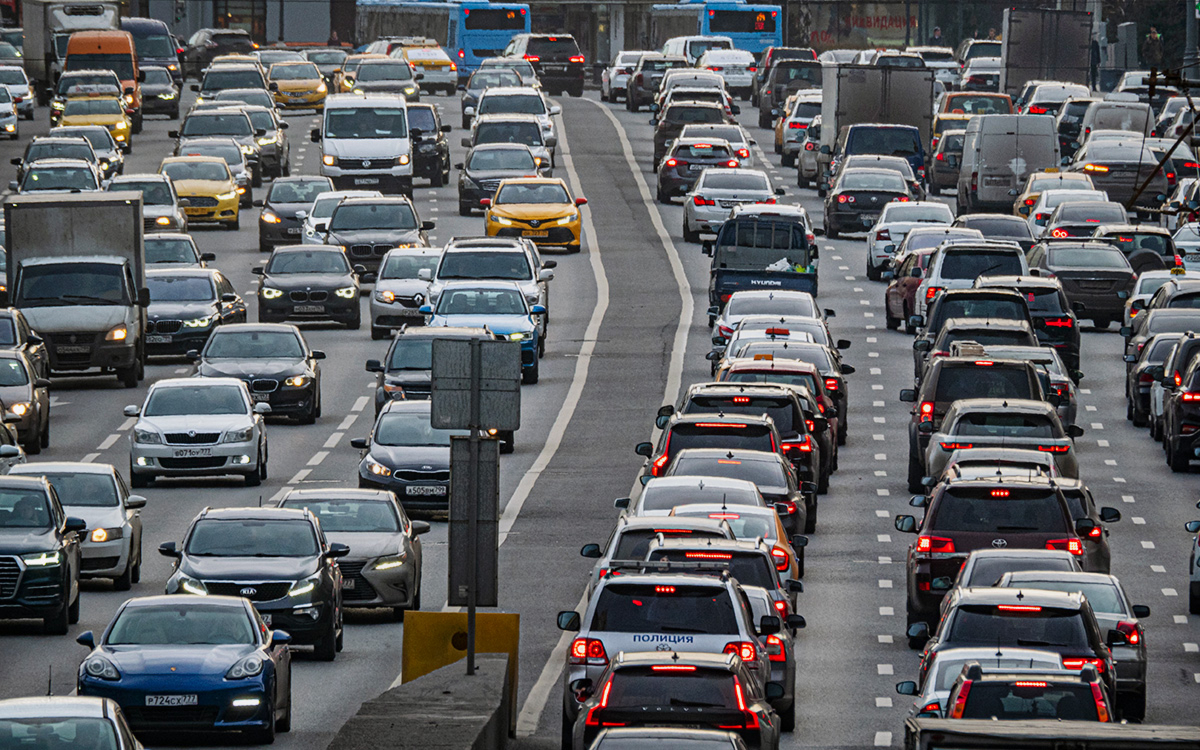Car: (557, 563, 782, 750), (77, 596, 292, 743), (895, 480, 1093, 630), (159, 507, 350, 660), (4, 190, 150, 389), (906, 586, 1129, 710), (994, 569, 1153, 722), (572, 652, 780, 750), (898, 357, 1044, 494), (280, 488, 430, 619), (11, 462, 147, 590), (809, 65, 932, 197), (124, 378, 270, 488), (680, 384, 823, 492), (355, 0, 531, 87), (976, 475, 1121, 574), (918, 397, 1086, 481), (186, 323, 326, 423), (0, 475, 86, 634), (971, 274, 1088, 388), (350, 401, 471, 511), (645, 536, 802, 620), (664, 449, 816, 533), (896, 644, 1065, 718), (738, 341, 855, 447), (581, 517, 733, 598), (423, 283, 544, 383), (310, 92, 422, 200), (948, 114, 1062, 218), (701, 217, 819, 315), (911, 288, 1033, 380), (943, 659, 1114, 722), (315, 194, 436, 283), (20, 0, 120, 107), (366, 327, 493, 410), (910, 238, 1030, 324), (669, 504, 807, 578), (1027, 237, 1138, 328), (744, 382, 834, 494), (707, 289, 825, 374), (932, 550, 1081, 616), (252, 244, 367, 329), (635, 414, 781, 479), (642, 0, 783, 66), (144, 267, 248, 356), (723, 360, 837, 440), (743, 586, 805, 731), (63, 29, 146, 135), (426, 237, 552, 306), (980, 344, 1078, 432), (1066, 139, 1168, 223), (999, 7, 1093, 96), (481, 178, 587, 252), (167, 109, 265, 188), (0, 696, 142, 750), (820, 123, 926, 193), (1119, 307, 1200, 398), (683, 169, 785, 241), (866, 201, 956, 282), (157, 154, 246, 230), (615, 477, 788, 516), (923, 318, 1040, 375), (370, 248, 442, 340), (823, 167, 916, 238), (252, 175, 335, 252), (1124, 331, 1188, 428), (1144, 332, 1200, 442), (461, 114, 557, 177), (455, 143, 538, 215), (173, 136, 257, 207), (217, 105, 293, 181), (495, 33, 584, 97), (649, 100, 730, 170), (53, 85, 134, 154), (101, 171, 190, 233), (0, 349, 51, 455), (1090, 223, 1187, 277), (658, 138, 740, 201), (464, 85, 560, 137), (884, 226, 983, 275), (1160, 351, 1200, 472), (1117, 268, 1200, 326), (828, 154, 927, 202), (46, 69, 133, 123), (1007, 167, 1095, 220), (121, 16, 182, 92), (295, 190, 382, 243), (758, 57, 822, 129), (10, 135, 109, 181), (47, 126, 128, 181), (885, 248, 936, 334), (725, 204, 825, 247), (1076, 92, 1157, 145), (179, 28, 260, 81), (1020, 190, 1109, 238), (737, 316, 851, 353), (751, 47, 819, 107), (457, 68, 523, 129), (390, 38, 457, 97), (407, 102, 452, 187), (1132, 279, 1200, 335), (717, 328, 814, 367), (950, 213, 1037, 256), (626, 54, 690, 112), (940, 446, 1056, 477), (590, 727, 746, 750), (0, 307, 49, 379), (7, 156, 101, 193), (1035, 201, 1131, 237), (346, 58, 424, 102), (599, 49, 662, 103), (679, 124, 758, 167), (694, 49, 758, 101), (264, 61, 328, 111), (1126, 137, 1200, 180), (190, 68, 278, 103), (920, 465, 1048, 489), (779, 94, 821, 167), (774, 89, 821, 154), (1112, 71, 1178, 117), (1054, 97, 1103, 156), (144, 232, 218, 270), (662, 85, 733, 121), (1019, 81, 1090, 117), (928, 128, 965, 197), (655, 73, 731, 106), (905, 46, 962, 90), (214, 87, 286, 119), (662, 35, 734, 67), (298, 49, 350, 93), (138, 66, 181, 119), (479, 57, 546, 91), (332, 53, 390, 92), (715, 354, 792, 382), (1158, 179, 1197, 232), (1014, 81, 1074, 115), (794, 115, 821, 188), (0, 66, 35, 120), (932, 109, 977, 151), (951, 56, 1001, 91), (939, 91, 1014, 114), (654, 68, 713, 97), (1157, 97, 1200, 136), (1146, 144, 1178, 196), (1184, 518, 1200, 618), (1171, 178, 1200, 230), (0, 423, 27, 476), (247, 50, 304, 74), (1164, 106, 1200, 144), (1173, 221, 1200, 271), (954, 38, 1002, 65), (0, 82, 22, 140), (184, 99, 248, 116), (523, 238, 556, 270), (364, 36, 414, 56), (206, 61, 263, 78), (210, 52, 262, 70), (1083, 130, 1145, 145), (1029, 360, 1055, 394), (0, 399, 22, 439), (871, 51, 926, 67), (851, 48, 902, 65), (170, 34, 187, 81), (817, 49, 865, 64), (0, 27, 24, 55), (0, 42, 24, 69), (0, 247, 8, 308), (0, 226, 6, 251), (0, 208, 4, 226)
